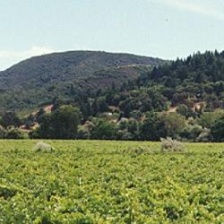neutral: (2, 2, 220, 224)
